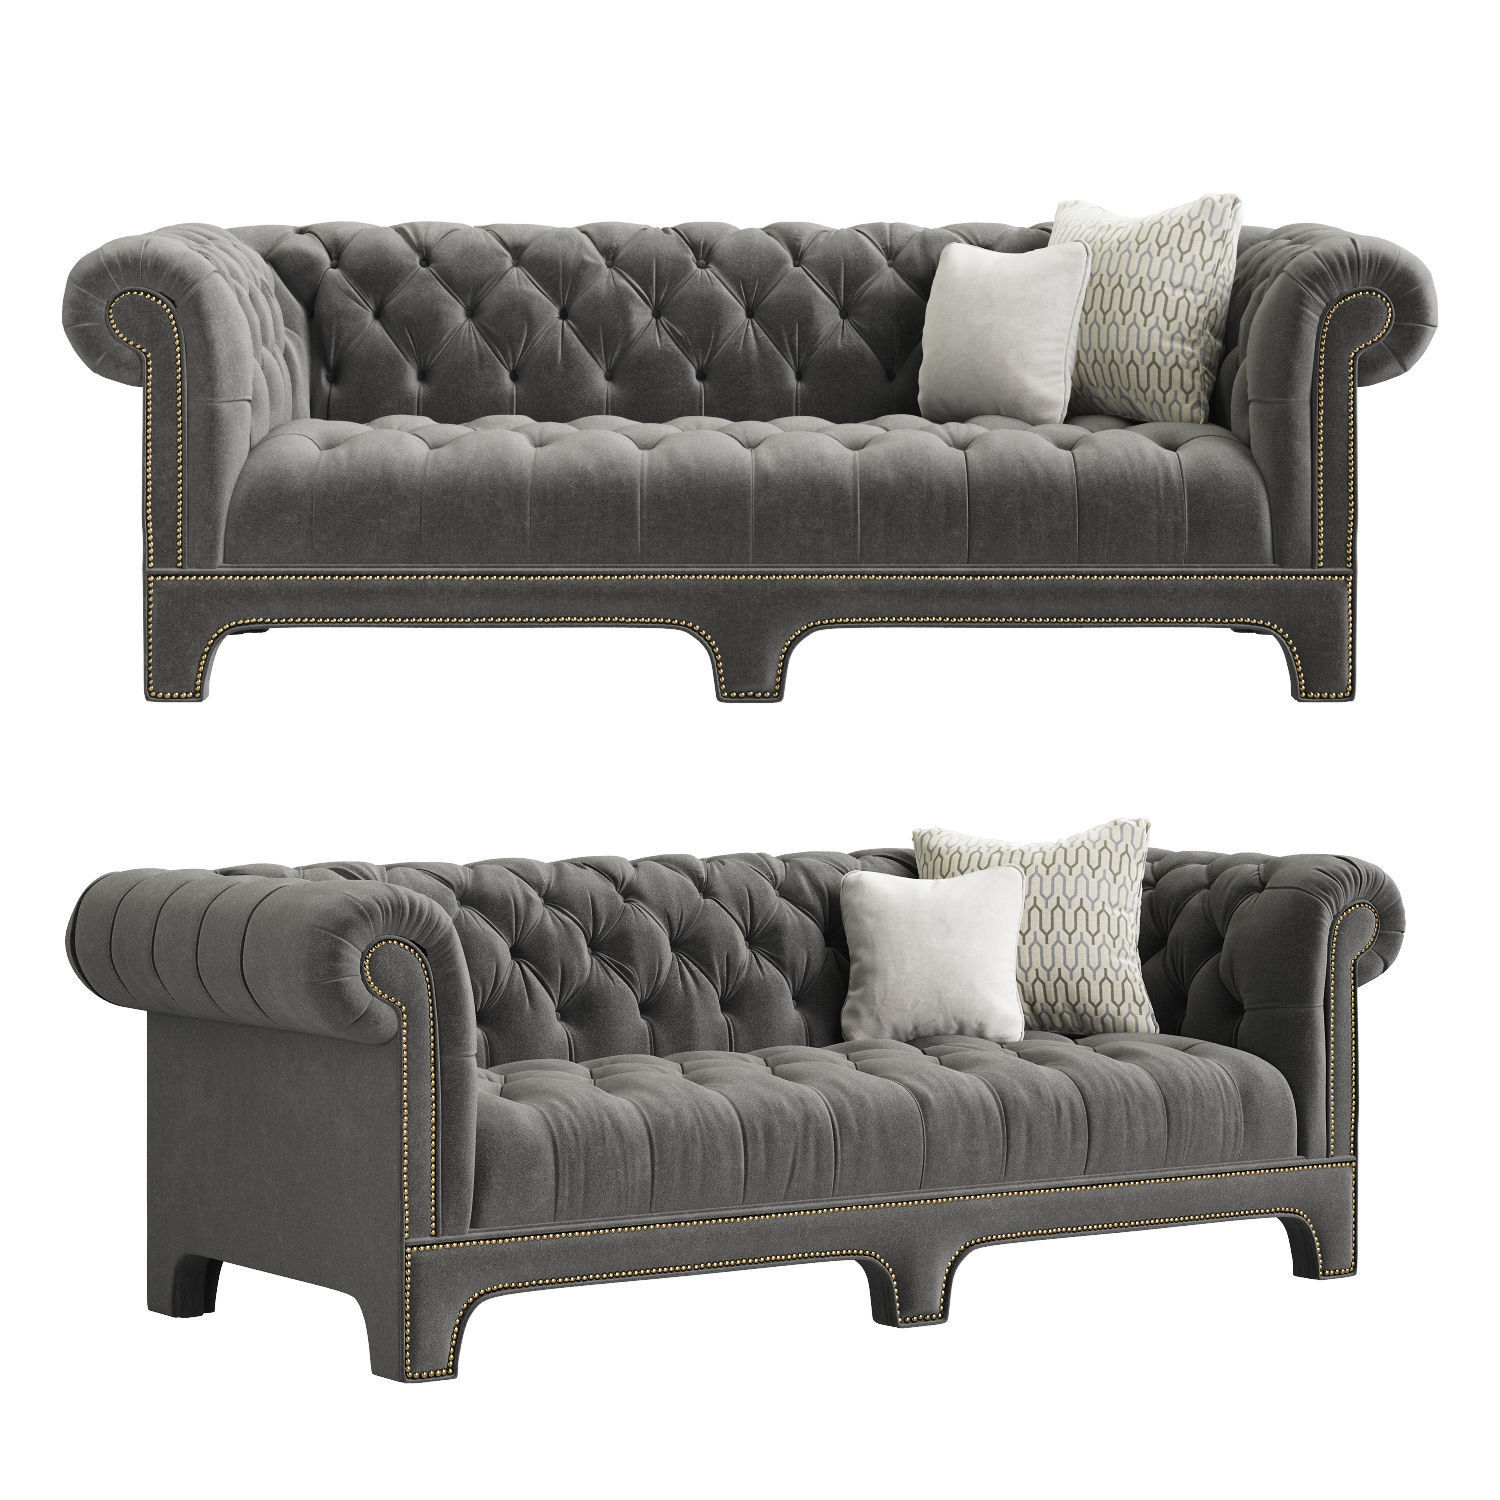chairs: (59, 821, 1437, 1396), (54, 206, 1445, 721)
